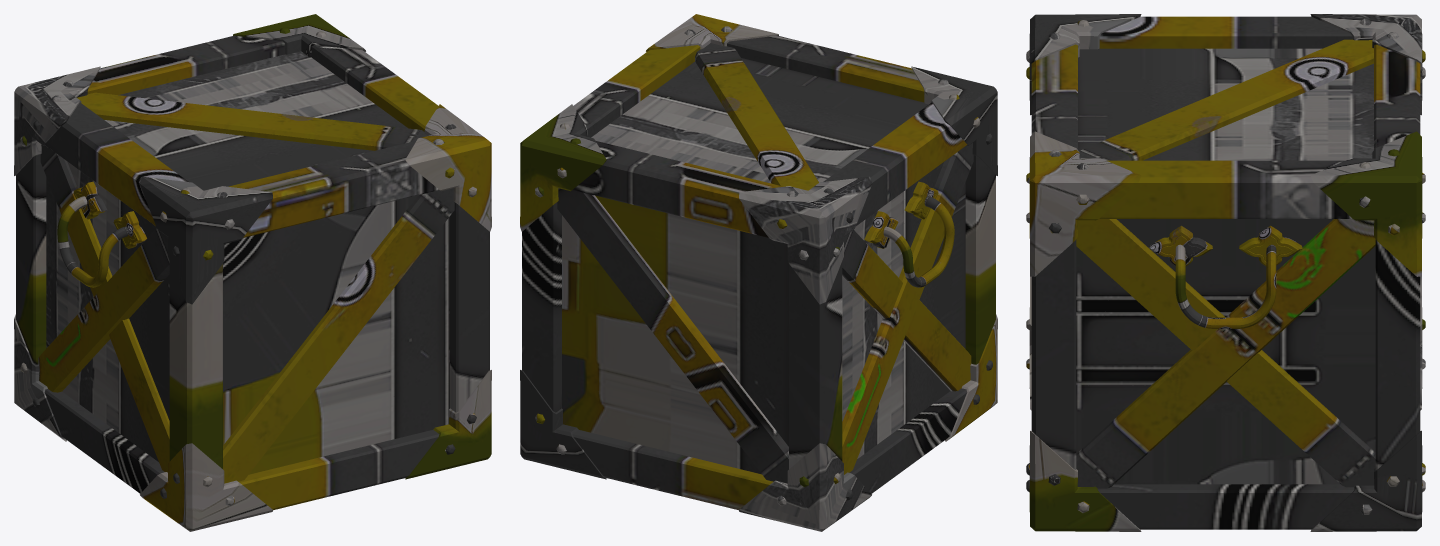
The model's file is crate_wood3.obj.
3 views of the same model, side by side, from view 1: azimuth 30°, elevation 25°; view 2: azimuth 150°, elevation 25°; view 3: azimuth 270°, elevation 25° (orthographic). The views are drawn at different scales.
Visible parts, largest first — view 1: crate_wood3:defaultMaterial_0_0; view 2: crate_wood3:defaultMaterial_0_0; view 3: crate_wood3:defaultMaterial_0_0.
Part boxes in pixels (bbox=[...]): crate_wood3:defaultMaterial_0_0: bbox=[14, 14, 491, 531]; crate_wood3:defaultMaterial_0_0: bbox=[520, 14, 997, 531]; crate_wood3:defaultMaterial_0_0: bbox=[1026, 14, 1425, 531].
Size of the model in its own units: 146 by 130 by 130.
